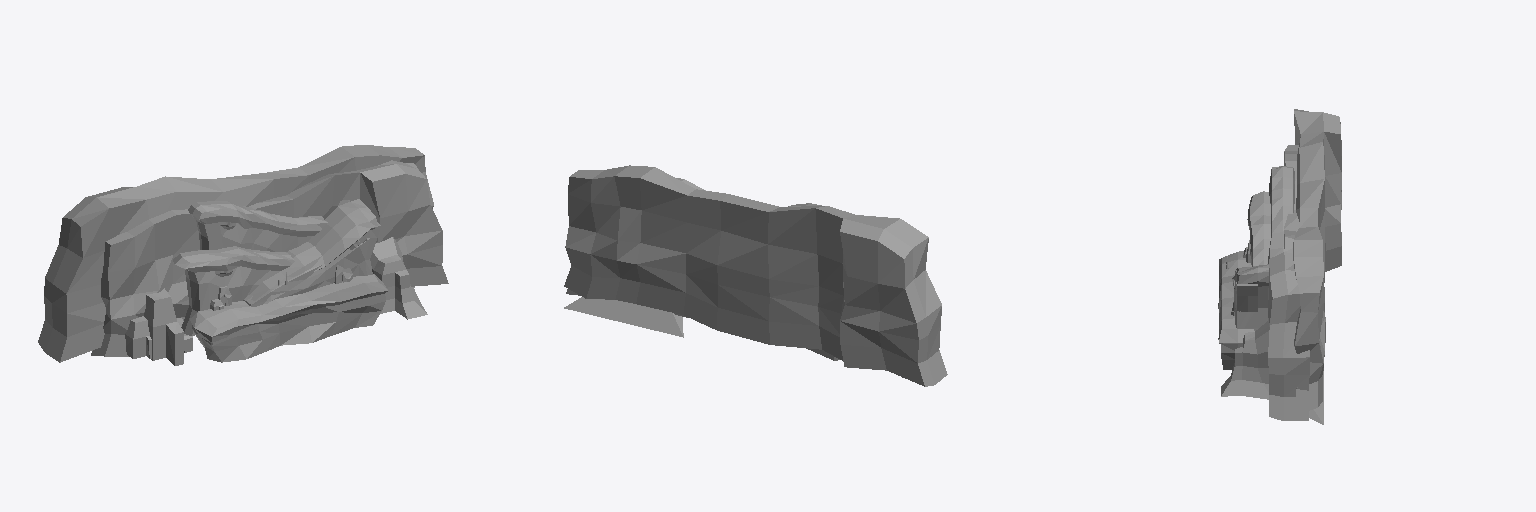
The model's file is Coral_Reef_v1.obj.
3 views of the same model, side by side, from view 1: azimuth 30°, elevation 25°; view 2: azimuth 150°, elevation 25°; view 3: azimuth 270°, elevation 25° (orthographic).
Parts seen in each view (by area): view 1: Cube.036_Cube.038, Cube.020_Cube.022, Cube.001, Cube.005, Cube.002, Cube, Cube.009_Cube.010, Cube.011_Cube.013, Cube.007_Cube.008, Cube.006_Cube.007, Cube.008_Cube.009, Cube.013_Cube.015; view 2: Cube.036_Cube.038, Cube.020_Cube.022; view 3: Cube.036_Cube.038, Cube.020_Cube.022, Cube.011_Cube.013, Cube, Cube.005, Cube.007_Cube.008, Cube.009_Cube.010, Cube.003.
Part boxes in pixels (x1,y1,x2,y2): Cube.036_Cube.038: (50, 146, 448, 365); Cube.020_Cube.022: (38, 145, 433, 362); Cube.001: (212, 294, 385, 361); Cube.005: (243, 222, 380, 306); Cube.002: (250, 198, 377, 303); Cube: (194, 274, 387, 342); Cube.009_Cube.010: (192, 201, 327, 236); Cube.011_Cube.013: (371, 237, 427, 318); Cube.007_Cube.008: (173, 246, 294, 271); Cube.006_Cube.007: (181, 266, 279, 335); Cube.008_Cube.009: (200, 223, 311, 251); Cube.013_Cube.015: (125, 316, 151, 358); Cube.036_Cube.038: (564, 167, 946, 386); Cube.020_Cube.022: (564, 165, 947, 386); Cube.036_Cube.038: (1218, 111, 1341, 424); Cube.020_Cube.022: (1293, 109, 1341, 415); Cube.011_Cube.013: (1221, 324, 1323, 424); Cube: (1219, 252, 1254, 343); Cube.005: (1234, 270, 1257, 330); Cube.007_Cube.008: (1250, 192, 1270, 266); Cube.009_Cube.010: (1268, 169, 1293, 263); Cube.003: (1240, 286, 1268, 328).
Size of the model in its own units: 40.87 by 16.66 by 11.71.